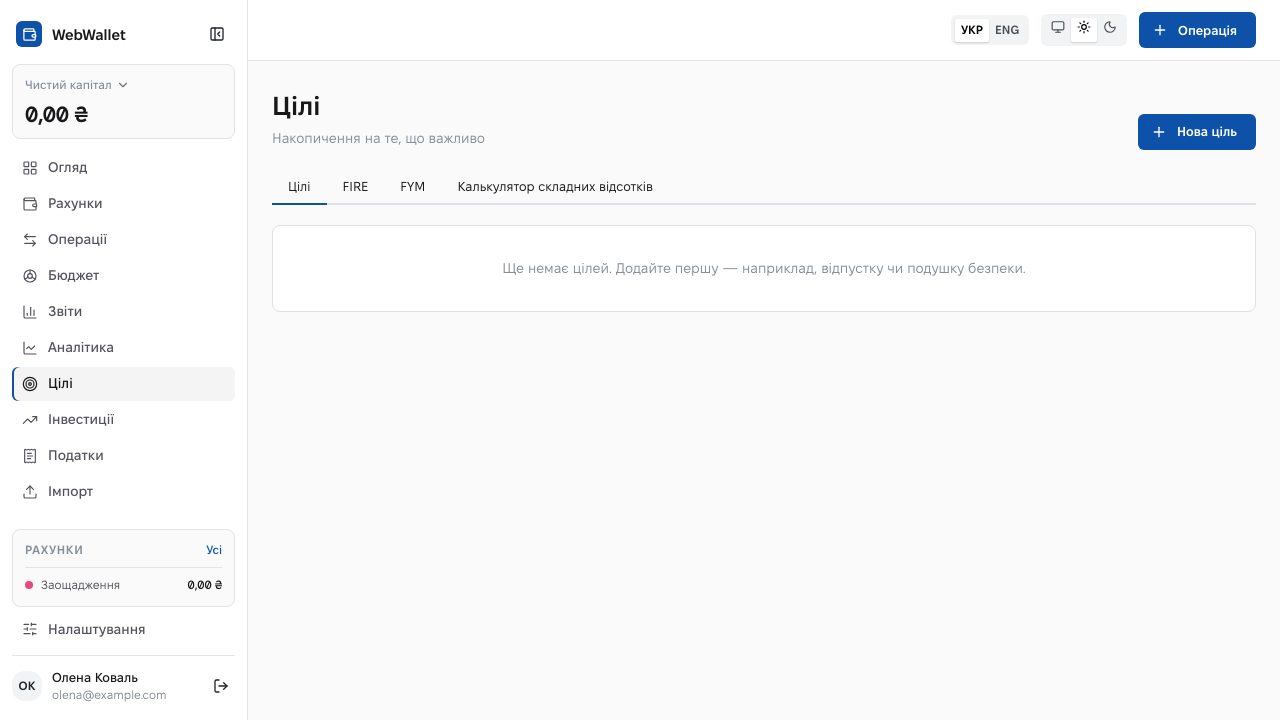
it: creates a goal on an account
The width and height of the screenshot is (1280, 720).
Expected: the text "Ще немає цілей" is shown, [502,260,1026,276]
Click the button "Нова ціль": (1197, 132) [1138,114,1256,150]
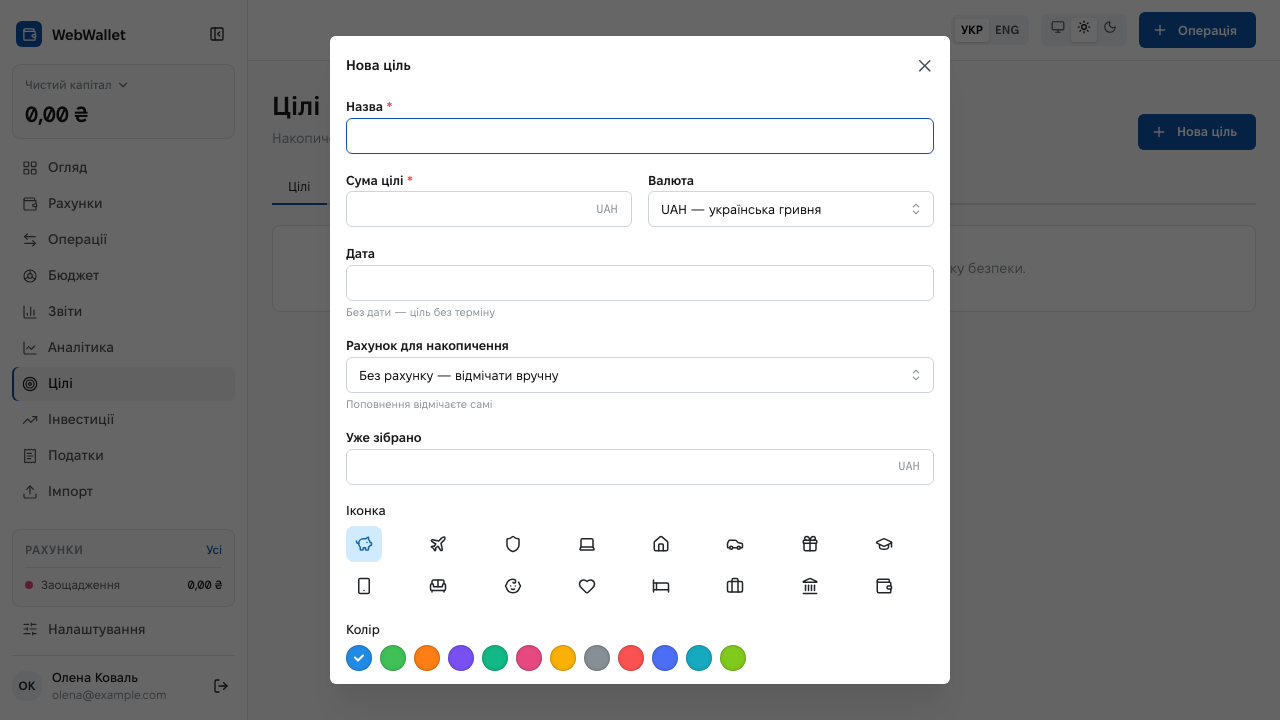
In the field labelled "Назва *": (640, 136) [346,118,934,154], type "Відпустка"
In the field labelled "Сума цілі *": (489, 209) [346,191,632,227], type "60000"
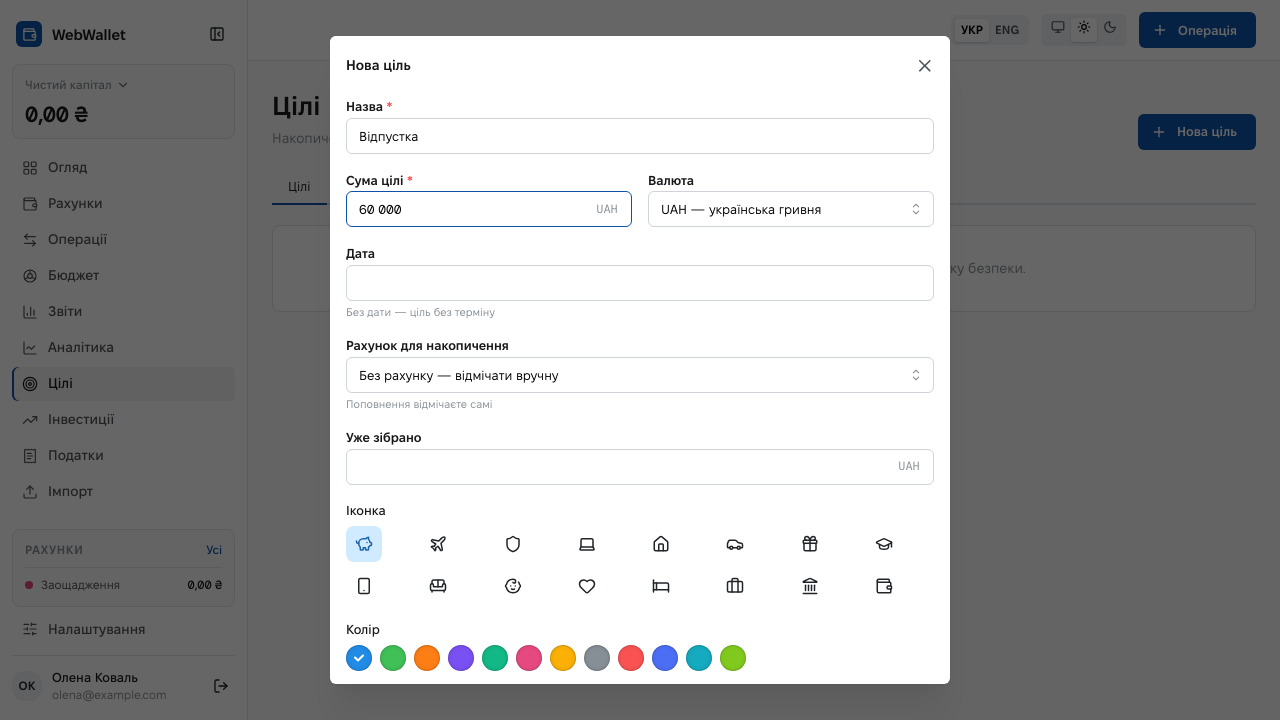
Click the dropdown labelled "Рахунок для накопичення": (640, 375) [346,357,934,393]
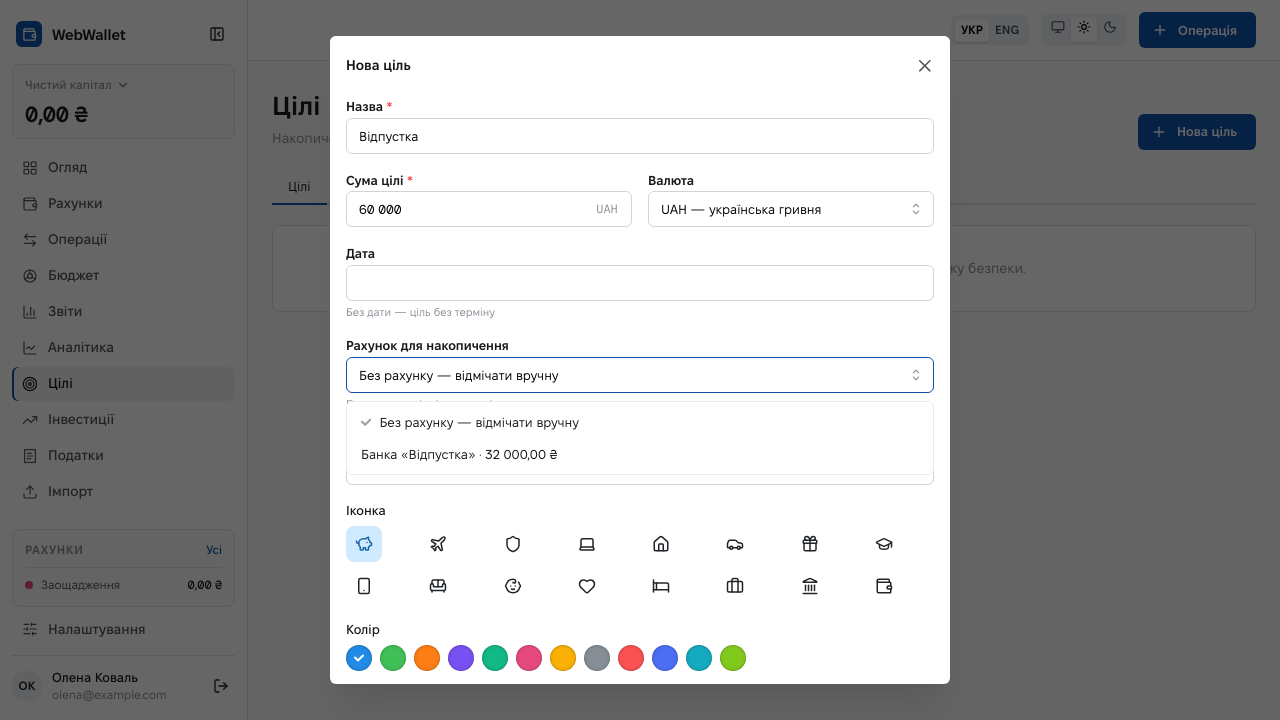
Click the option "Банка «Відпустка» · 32 000,00 ₴": (459, 454) [361,447,557,461]
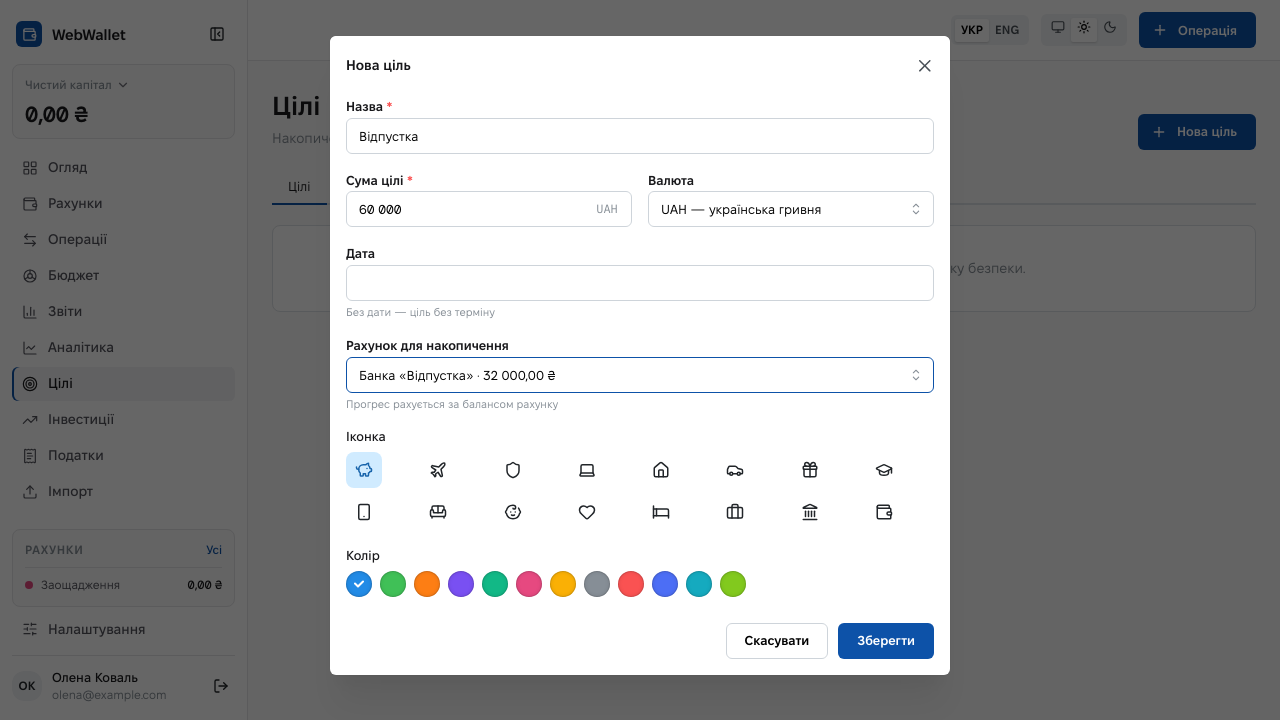
Click the radio button named "plane": (454, 470) [420,452,489,488]
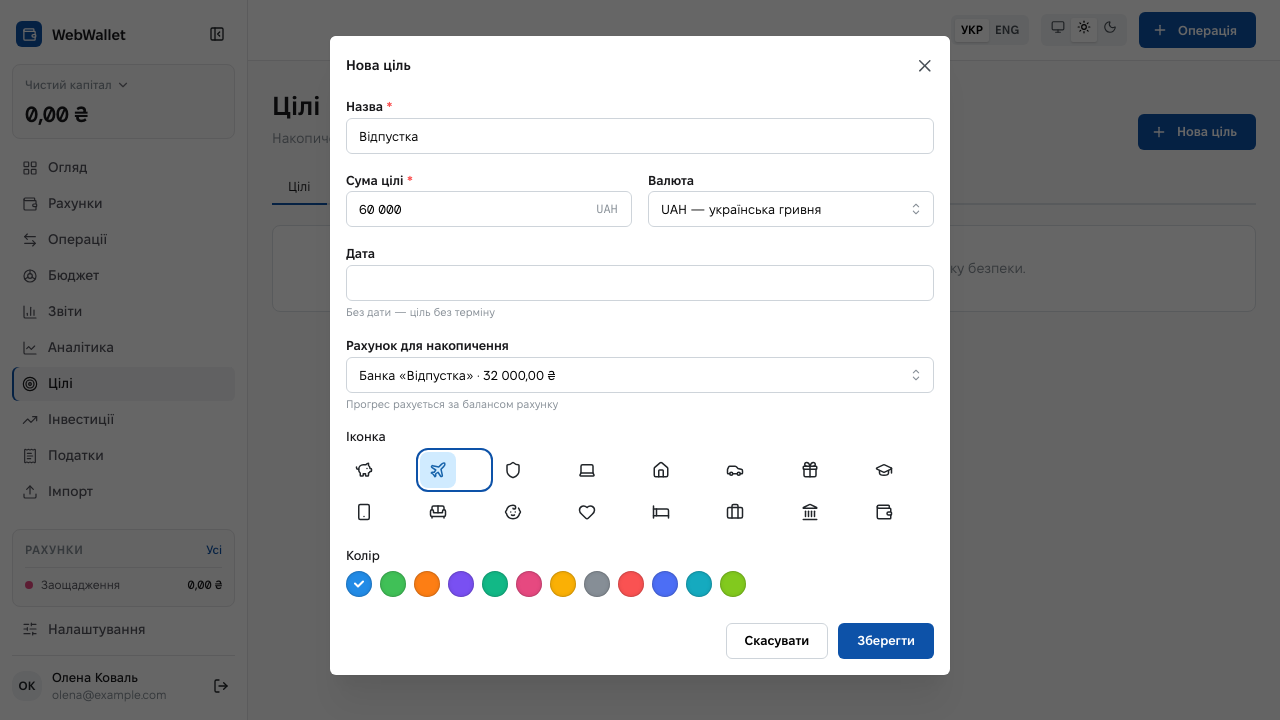
Click the button "Зберегти": (886, 641) [838,623,934,659]
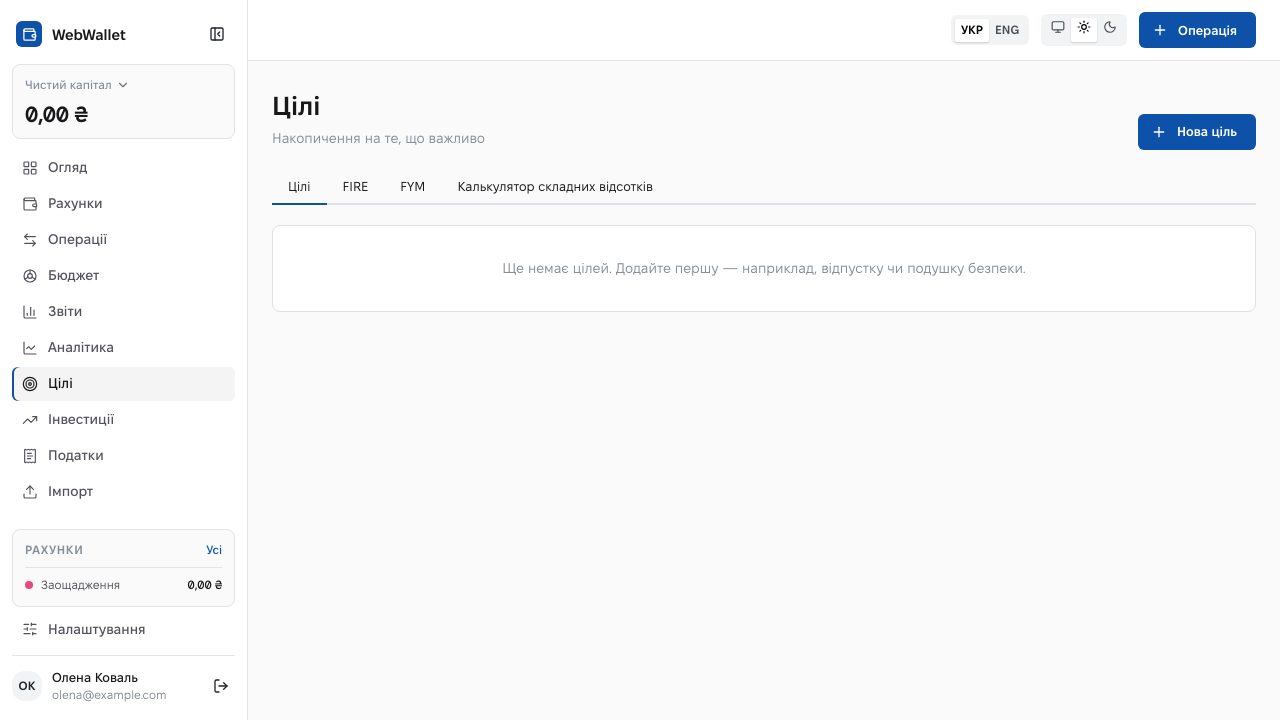
Expected: the dialog is gone
